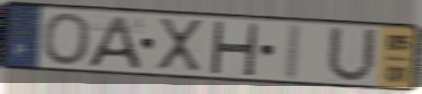A: (84, 15, 144, 71)
H: (207, 19, 261, 78)
I: (281, 21, 305, 83)
O: (40, 11, 93, 68)
U: (324, 24, 380, 86)
X: (156, 16, 205, 73)
